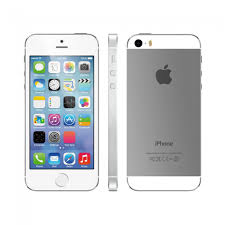iphone: (125, 31, 204, 192)
iphone5: (21, 31, 100, 190), (125, 31, 204, 190)
